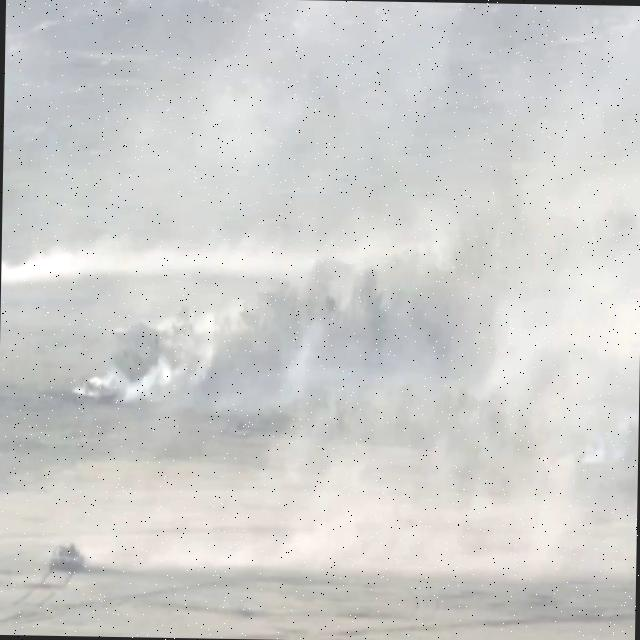AIFV: (70, 374, 118, 409), (114, 324, 135, 345)
MBT: (49, 543, 89, 573)
